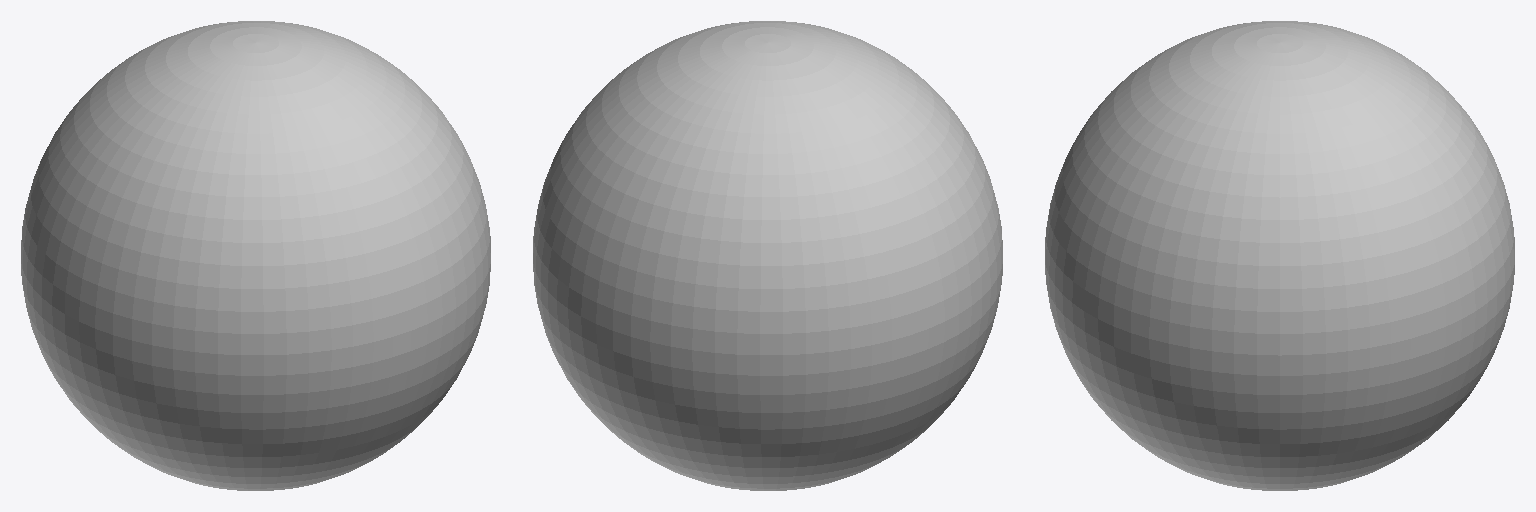
File: Neptune.obj
3 views of the same model, side by side, from view 1: azimuth 30°, elevation 25°; view 2: azimuth 150°, elevation 25°; view 3: azimuth 270°, elevation 25° (orthographic).
Visible parts, largest first — view 1: Atmosfera; view 2: Atmosfera; view 3: Atmosfera.
Part boxes in pixels (left/top/right/bottom): Atmosfera: left=21, top=21, right=490, bottom=490; Atmosfera: left=533, top=21, right=1002, bottom=490; Atmosfera: left=1045, top=21, right=1514, bottom=490.
Size of the model in its own units: 20.1 by 20.1 by 20.1.